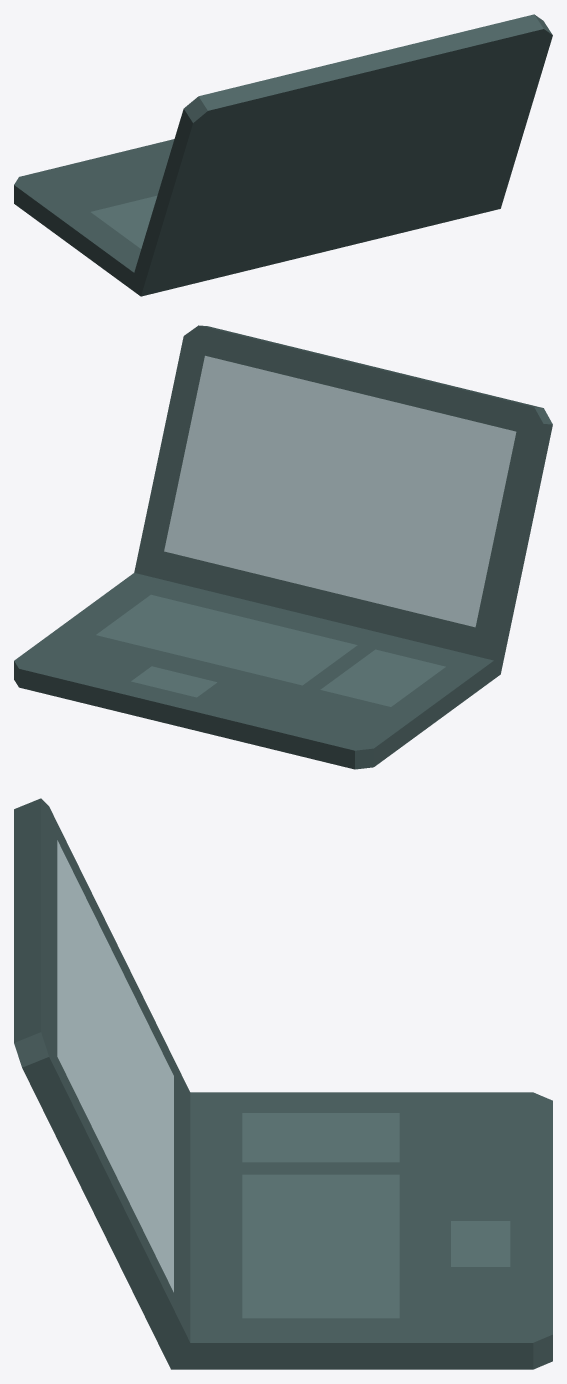
Rendered from laptop.gltf.
3 views of the same model, one above another, from view 1: azimuth 30°, elevation 25°; view 2: azimuth 150°, elevation 25°; view 3: azimuth 270°, elevation 25° (orthographic). The views are drawn at different scales.
Visible parts, largest first — view 1: laptop; view 2: laptop; view 3: laptop.
Part boxes in pixels (x1,y1,x2,y2): laptop: (14, 14, 552, 296); laptop: (14, 325, 552, 769); laptop: (14, 798, 552, 1369).
Bounding box in the file's own units: 0.264 × 0.1618 × 0.2401.
